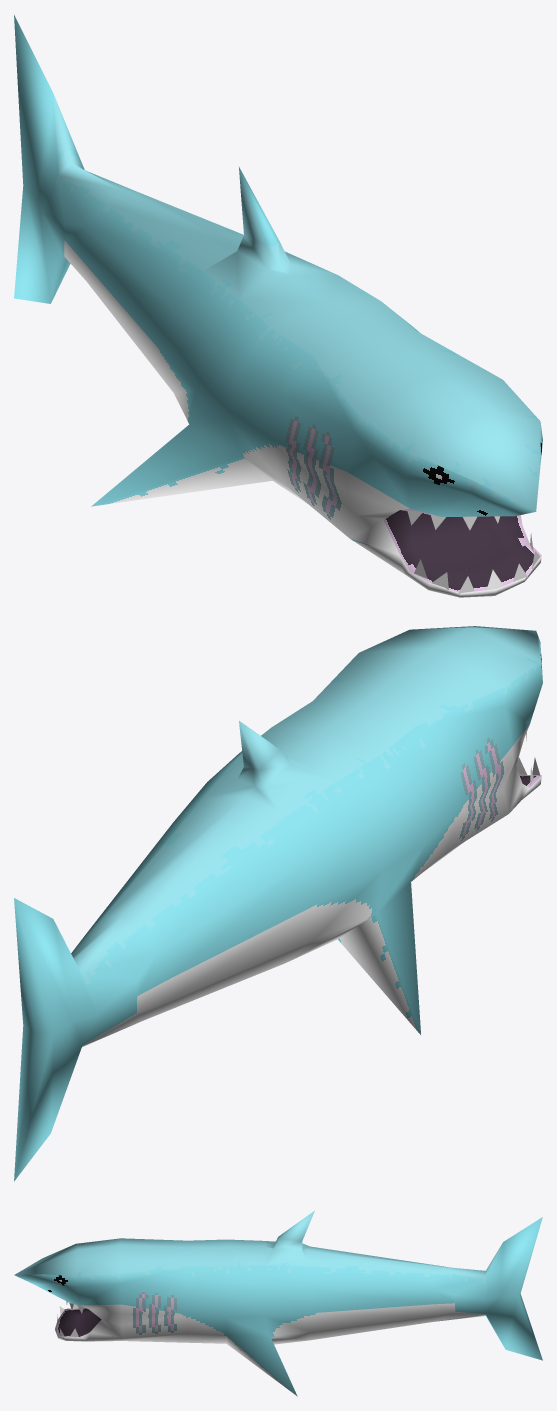
The model's file is Shark.gltf.
The picture shows the model from 3 angles, top to bottom: view 1: azimuth 30°, elevation 25°; view 2: azimuth 150°, elevation 25°; view 3: azimuth 270°, elevation 25°; orthographic projection. The views are drawn at different scales.
Visible parts, largest first — view 1: Shark; view 2: Shark; view 3: Shark.
Part boxes in pixels (left/top/right/bottom): Shark: left=14, top=15, right=542, bottom=597; Shark: left=14, top=626, right=542, bottom=1181; Shark: left=14, top=1210, right=542, bottom=1396.
Size of the model in its own units: 4.93 by 4.24 by 13.51.
1 material, 1 textured.
